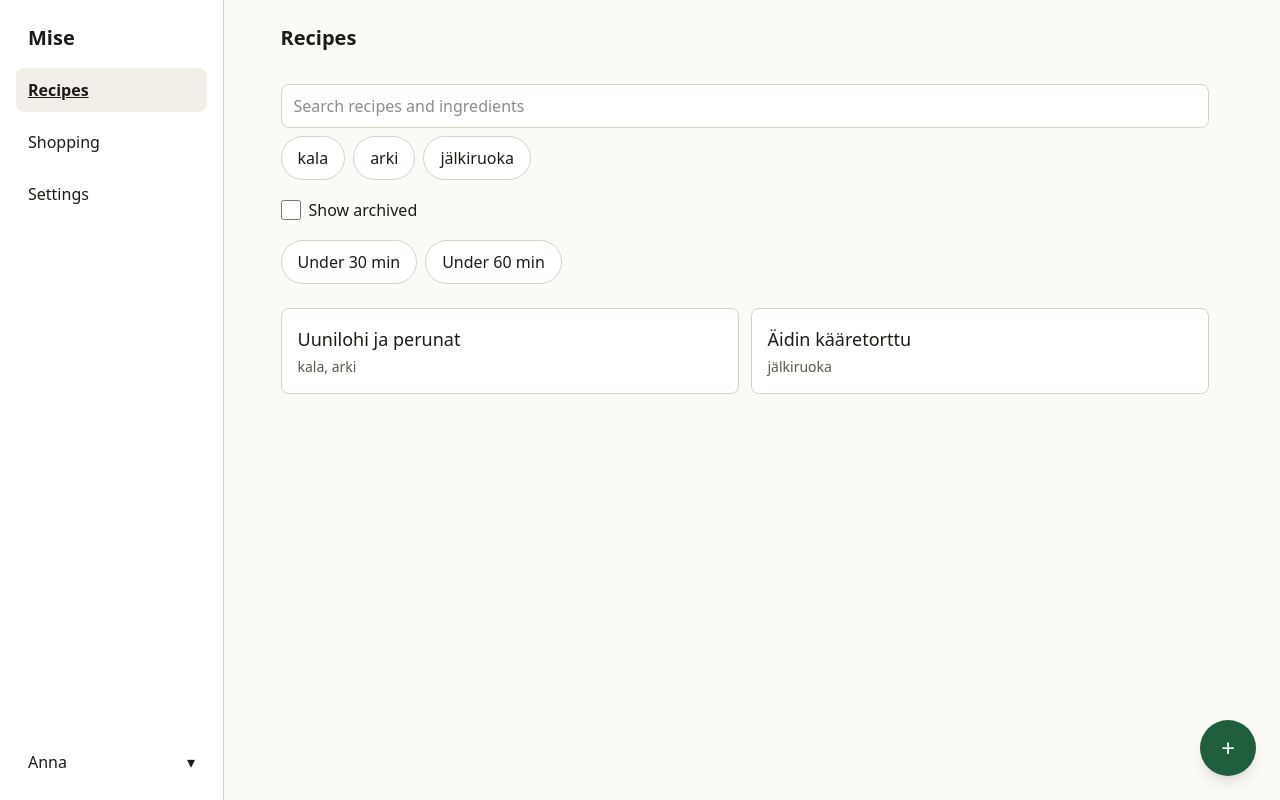
it: recipe list (FR-01, FR-02, FR-07, AC-02, AC-18) › AC-02: searches by name after the debounce and shows no-results with Clear search
The image size is (1280, 800).
Check: the text "Uunilohi ja perunat" is shown, box [298,327,460,351]
Type "kääre" into the search field with test id "recipe-search-input" at (744, 106), box [280,84,1208,128]
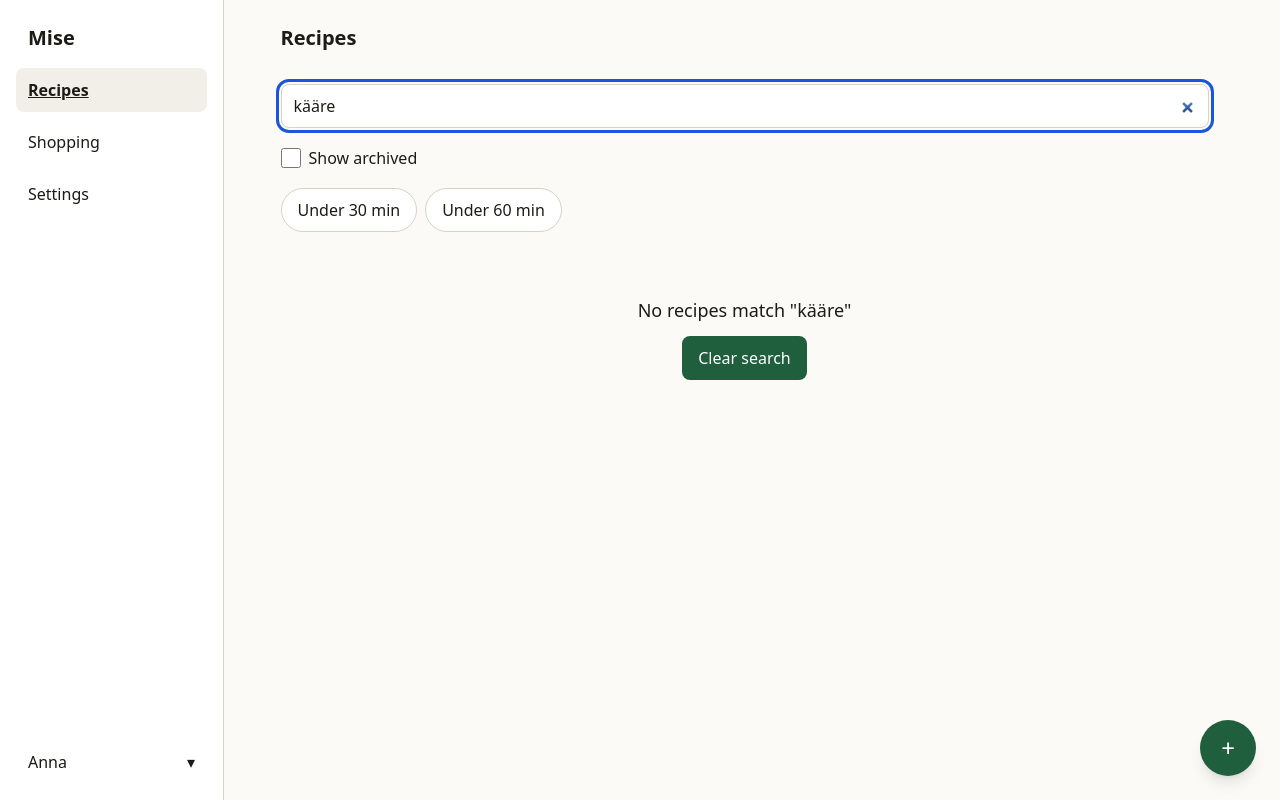
Check: the text "No recipes match \"kääre\"" is shown, box [638,296,851,324]
Click the button "Clear search" at (744, 358), box [682,336,807,380]
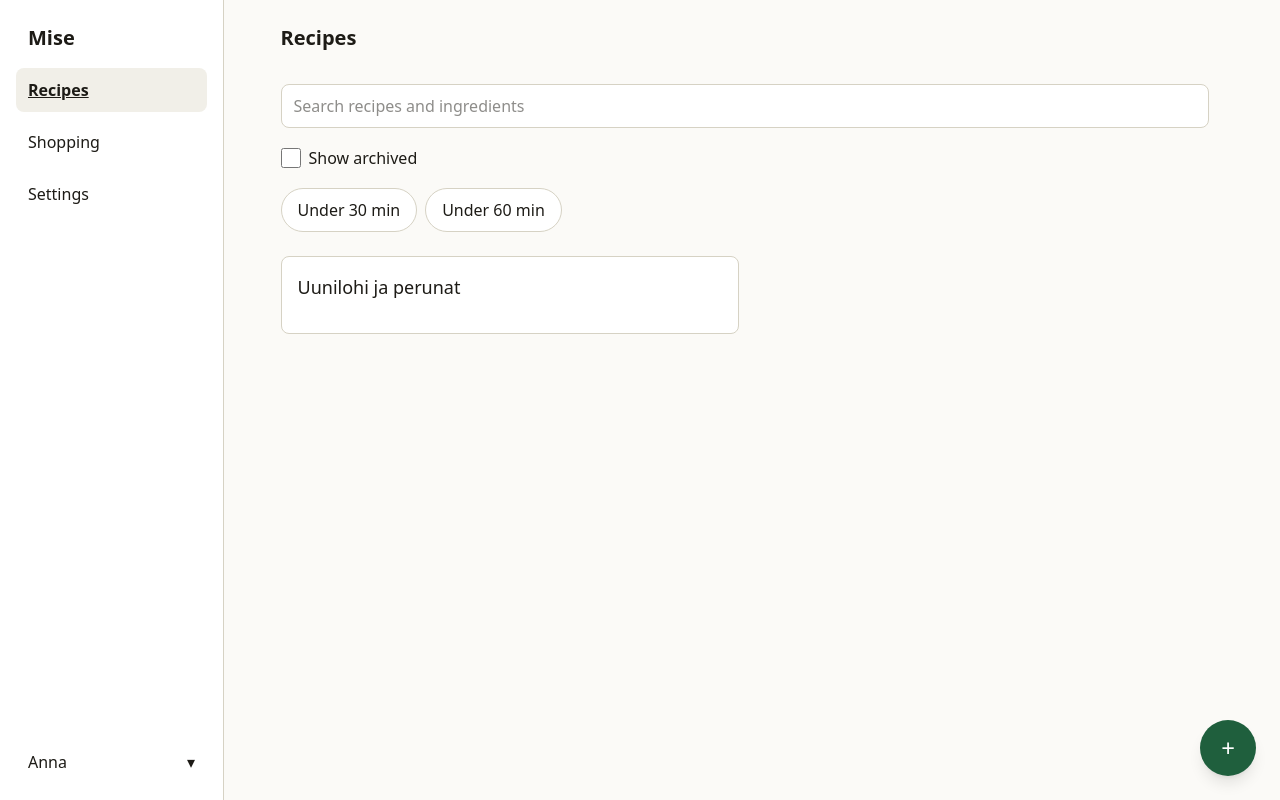
Check: the search field with test id "recipe-search-input" is empty, box [280,84,1208,128]
